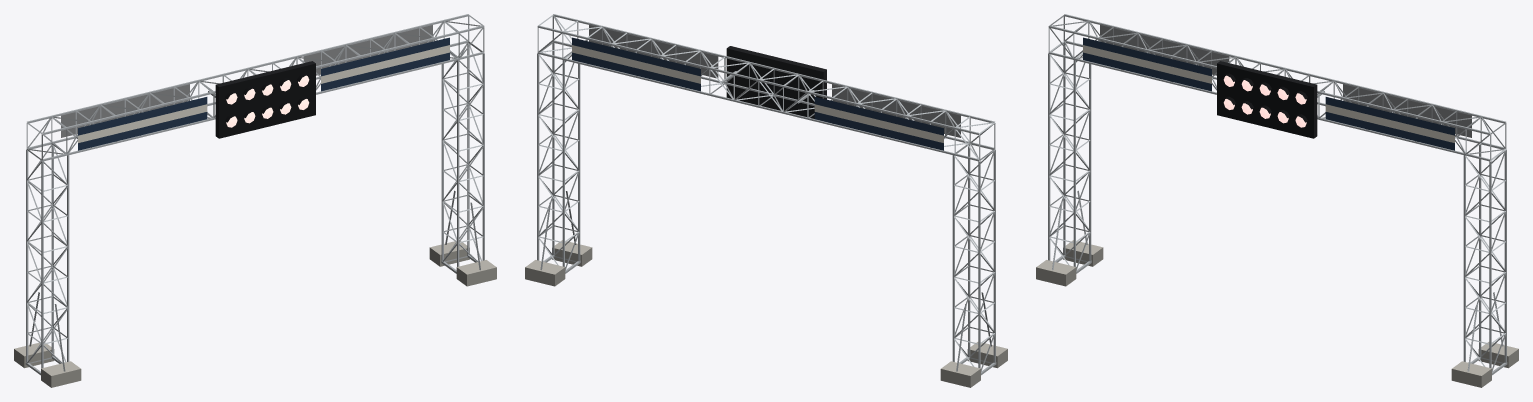
Rendered from gantry.glb.
3 views of the same model, side by side, from view 1: azimuth 30°, elevation 25°; view 2: azimuth 150°, elevation 25°; view 3: azimuth 330°, elevation 25° (orthographic).
Parts seen in each view (by area): view 1: gantry; view 2: gantry; view 3: gantry.
Boxes of the visible parts, x1,y1,x2,y2 form: gantry: [14, 14, 496, 387]; gantry: [525, 14, 1007, 387]; gantry: [1036, 14, 1518, 387].
Size of the model in its own units: 14.9 by 8.1 by 2.16.
